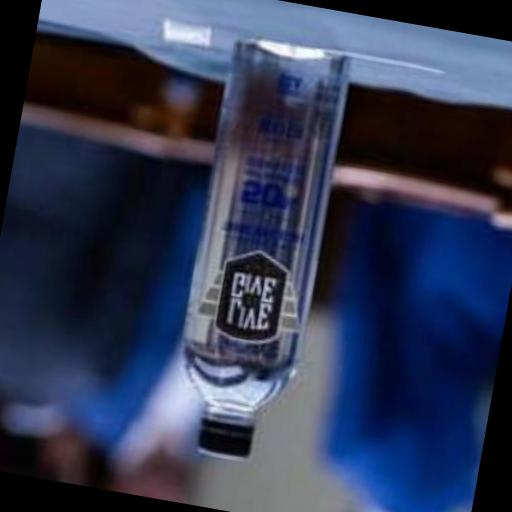Coca: (148, 16, 365, 478)
